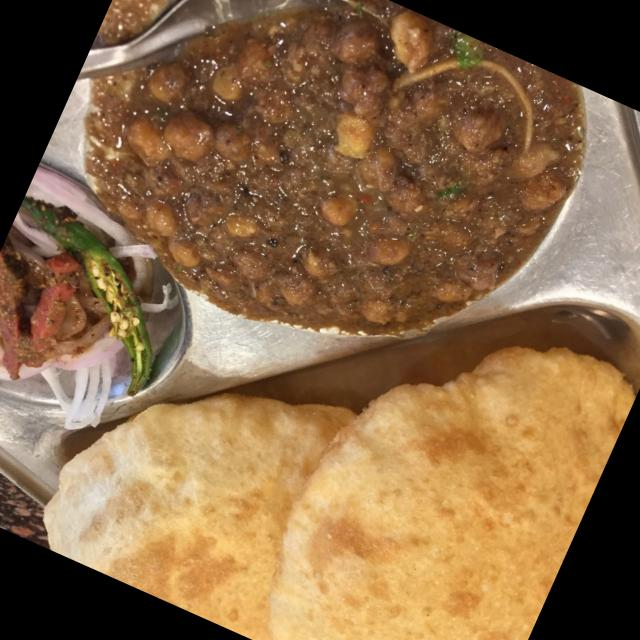Bhatura: (31, 179, 640, 640)
Chole: (60, 0, 602, 403)
